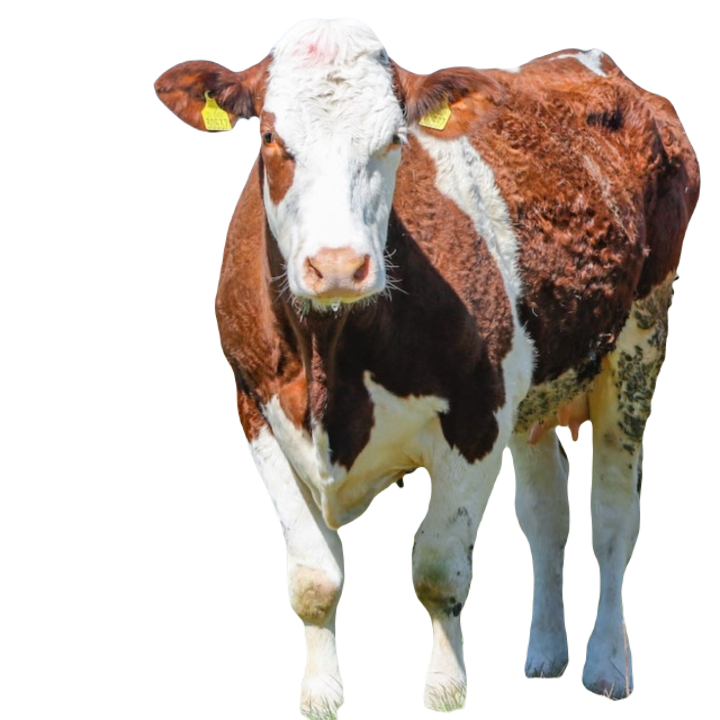Cow: (148, 16, 702, 711)
